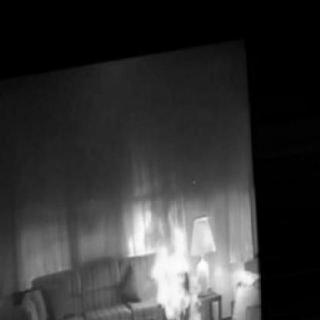Fire: (146, 215, 204, 318)
